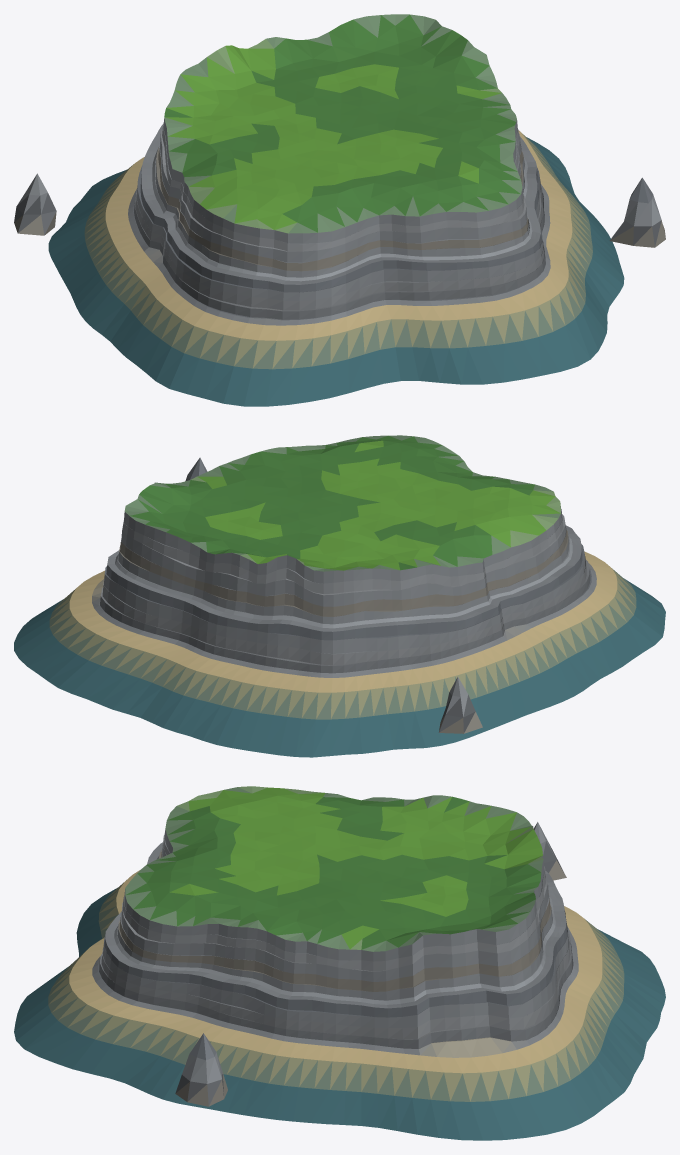
The model's file is combat.glb.
3 renders of one model, top to bottom at view 1: azimuth 30°, elevation 25°; view 2: azimuth 150°, elevation 25°; view 3: azimuth 270°, elevation 25°, orthographic. The views are drawn at different scales.
Parts seen in each view (by area): view 1: combat; view 2: combat; view 3: combat.
Part boxes in pixels (x1,y1,x2,y2): combat: [14, 14, 665, 406]; combat: [14, 435, 665, 757]; combat: [14, 786, 665, 1140].
Size of the model in its own units: 67.53 by 19.84 by 70.22.
